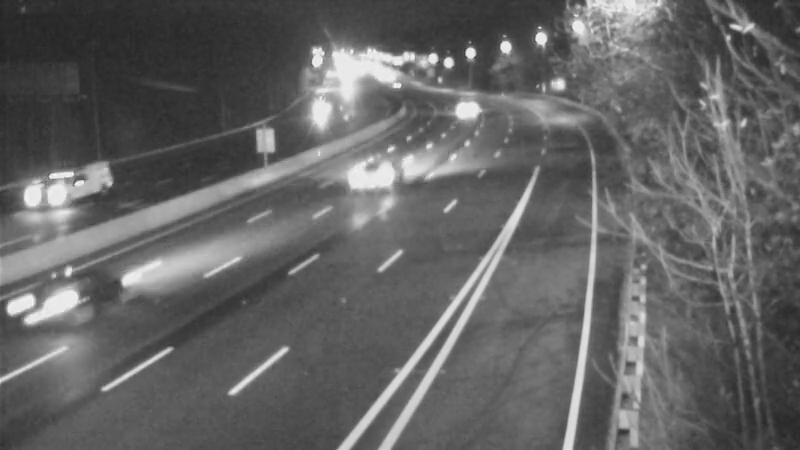vehicle: (1, 248, 108, 358), (322, 140, 402, 220), (14, 152, 94, 232), (441, 79, 491, 129), (295, 79, 345, 129)
